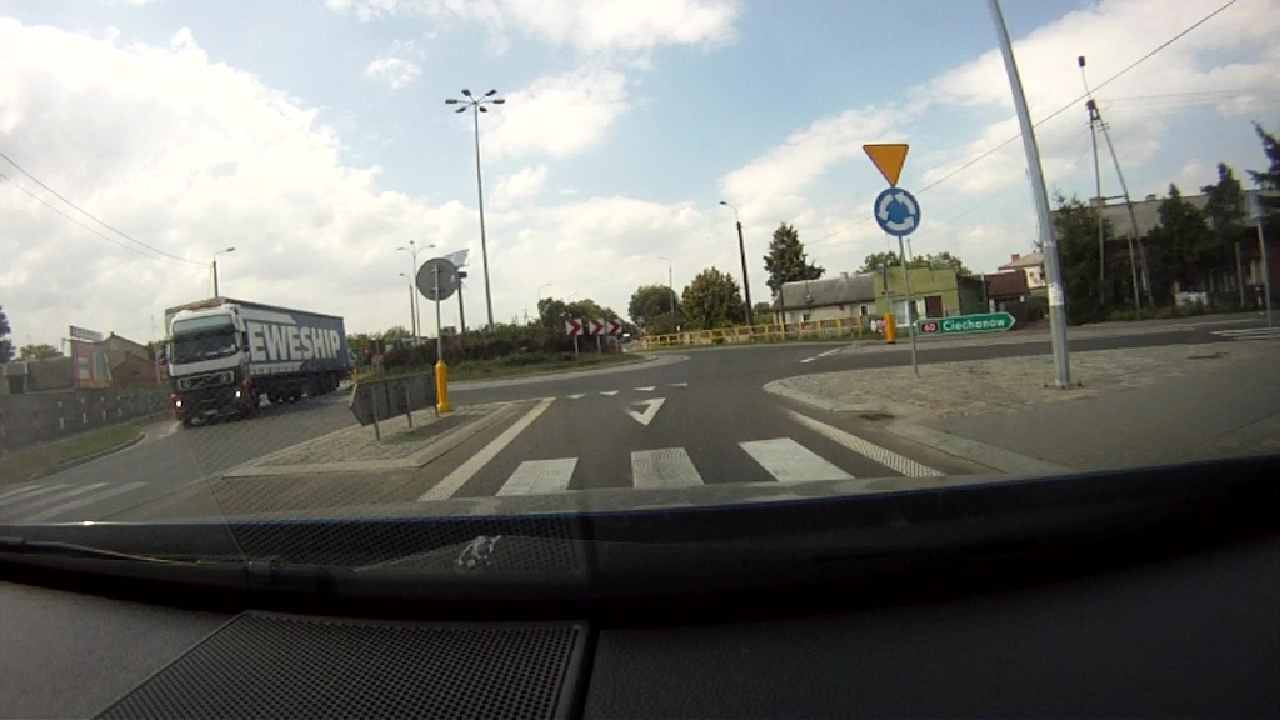A7: (863, 143, 911, 187)
C12: (874, 188, 923, 237)
